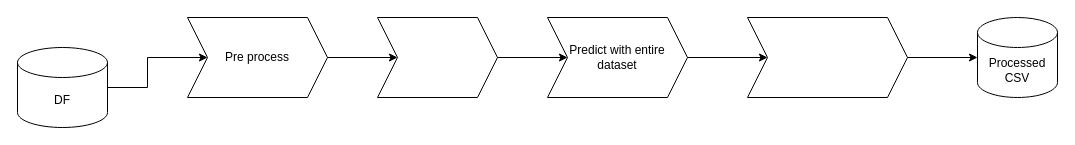
Image size: 1075x145. Some labels were removed from this diagram. The shapes that lost their labels are listed below. From the top down, each one's box as (x1, y1, x2, y2) in pixels, then its label:
(376, 16, 498, 98): Fit Model
(746, 16, 908, 98): Residual Analysis
